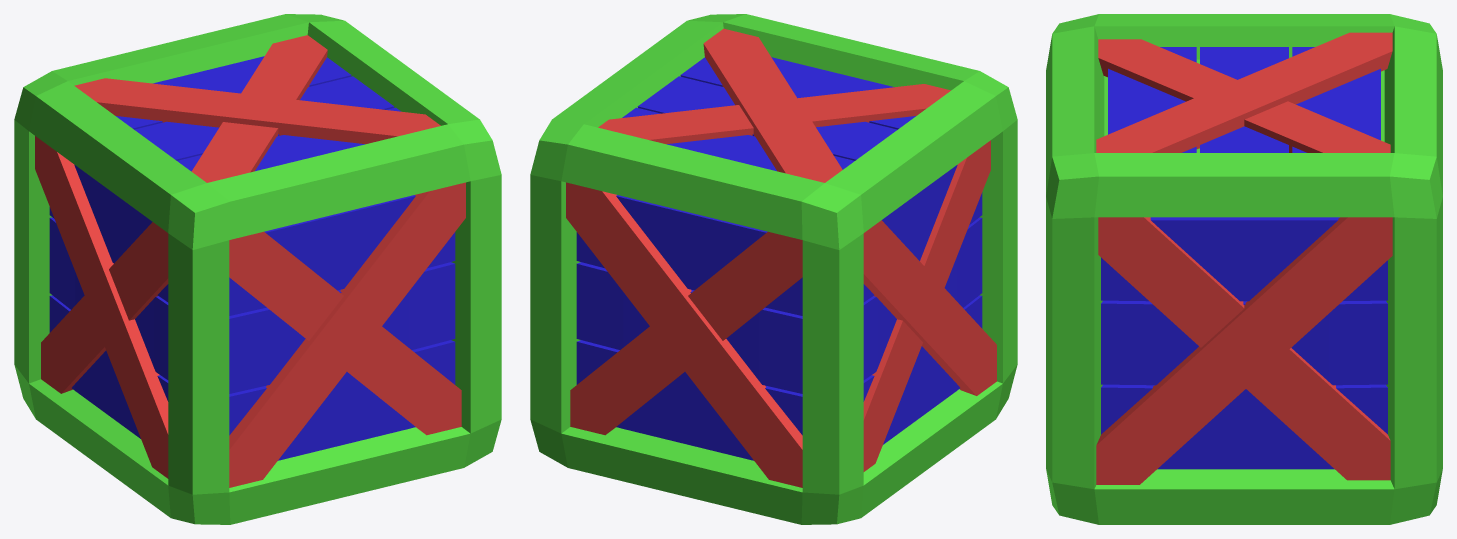
The model's file is Caja.fbx.
3 renders of one model, left to right at view 1: azimuth 30°, elevation 25°; view 2: azimuth 150°, elevation 25°; view 3: azimuth 270°, elevation 25°, orthographic. The views are drawn at different scales.
Visible parts, largest first — view 1: Cube.002; view 2: Cube.002; view 3: Cube.002.
Boxes of the visible parts, <box> form: Cube.002: <box>14,14,501,524</box>; Cube.002: <box>530,14,1017,524</box>; Cube.002: <box>1046,14,1442,524</box>.
Size of the model in its own units: 131 by 131 by 131.
